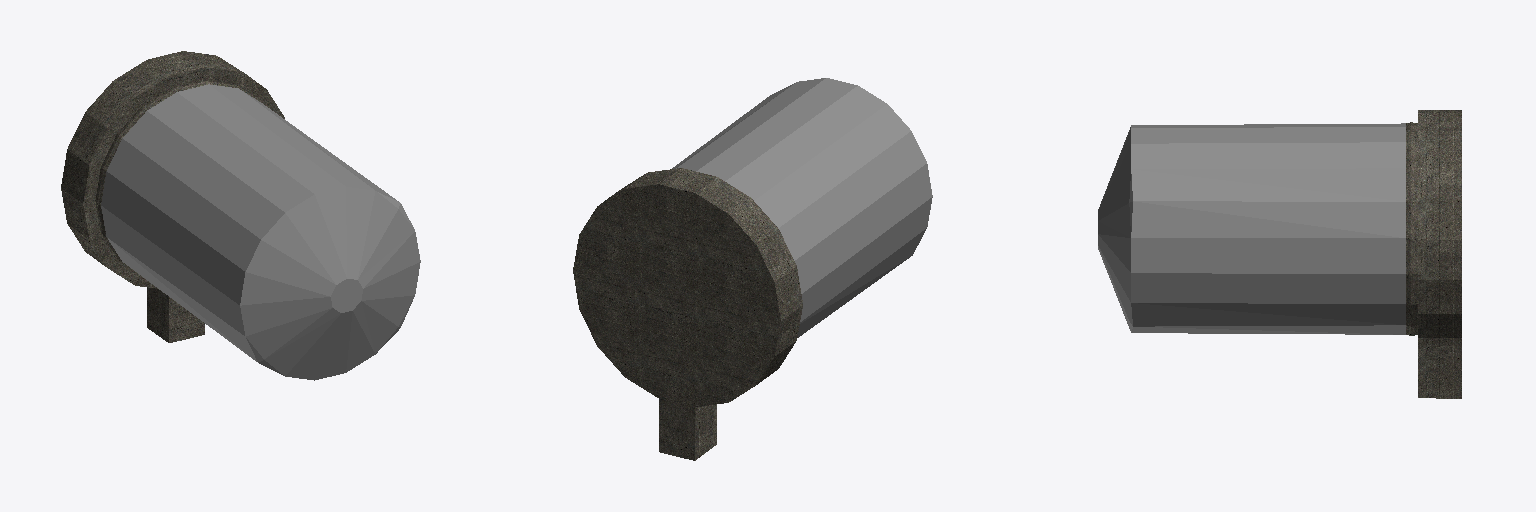
3 renders of one model, left to right at view 1: azimuth 30°, elevation 25°; view 2: azimuth 150°, elevation 25°; view 3: azimuth 270°, elevation 25°, orthographic.
Parts seen in each view (by area): view 1: MDL_Objec2; view 2: MDL_Objec2; view 3: MDL_Objec2.
Boxes of the visible parts, <box> form: MDL_Objec2: <box>61,51,420,380</box>; MDL_Objec2: <box>573,78,932,460</box>; MDL_Objec2: <box>1098,110,1461,398</box>.
Bounding box in the file's own units: 6.3 × 7.75 × 9.55.
Materials: 2 (1 with a texture image).